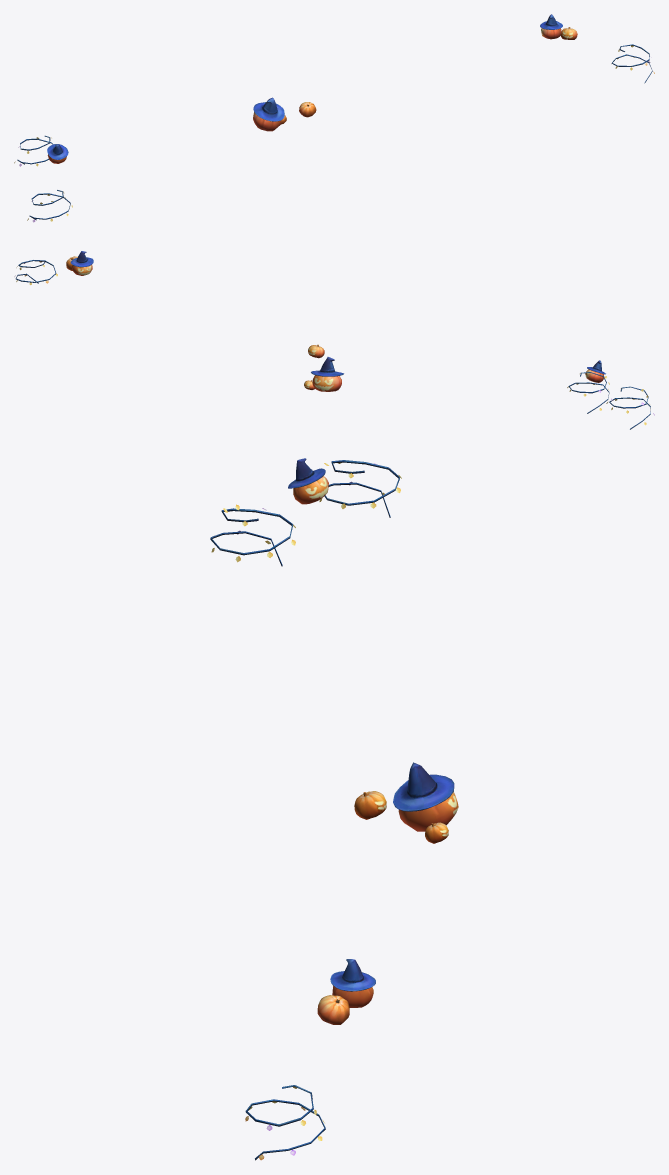
The model's file is pref_sm_4v4beachtech_WSJ_bk_decorate_D01_lv0.fbx.
3 renders of one model, top to bottom at view 1: azimuth 30°, elevation 25°; view 2: azimuth 150°, elevation 25°; view 3: azimuth 270°, elevation 25°, orthographic. The views are drawn at different scales.
Visible parts, largest first — view 1: sm_4v4beachtech_WSJ_bk_decorate_D01_b_lv0, sm_4v4beachtech_WSJ_bk_decorate_D01_a_lv0; view 2: sm_4v4beachtech_WSJ_bk_decorate_D01_b_lv0, sm_4v4beachtech_WSJ_bk_decorate_D01_a_lv0; view 3: sm_4v4beachtech_WSJ_bk_decorate_D01_b_lv0, sm_4v4beachtech_WSJ_bk_decorate_D01_a_lv0.
Boxes of the visible parts, left/top/right/bottom form: sm_4v4beachtech_WSJ_bk_decorate_D01_b_lv0: left=47, top=14, right=577, bottom=163; sm_4v4beachtech_WSJ_bk_decorate_D01_a_lv0: left=14, top=44, right=654, bottom=222; sm_4v4beachtech_WSJ_bk_decorate_D01_b_lv0: left=66, top=251, right=605, bottom=391; sm_4v4beachtech_WSJ_bk_decorate_D01_a_lv0: left=14, top=260, right=654, bottom=429; sm_4v4beachtech_WSJ_bk_decorate_D01_b_lv0: left=288, top=458, right=458, bottom=1024; sm_4v4beachtech_WSJ_bk_decorate_D01_a_lv0: left=210, top=460, right=401, bottom=1160.
Bounding box in the file's own units: 40.67 × 4.4 × 6.98.
